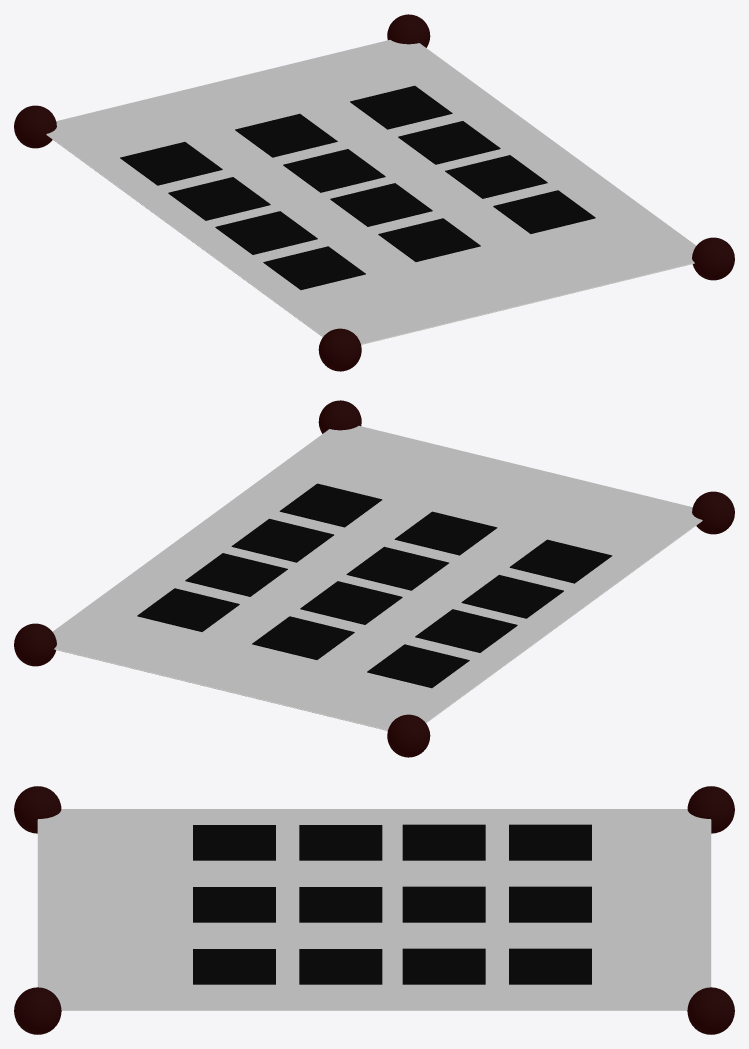
Rendered from Document.fbx.
3 renders of one model, top to bottom at view 1: azimuth 30°, elevation 25°; view 2: azimuth 150°, elevation 25°; view 3: azimuth 270°, elevation 25°, orthographic. The views are drawn at different scales.
Visible parts, largest first — view 1: DrawingSurface, Enhancement, Material, Heart, Harm, Fate, Inconvenience, DayRuiner, FamilyConflict, LegalRepercussions, Death, Knowledge (+6 smaller); view 2: DrawingSurface, Material, Harm, DayRuiner, Knowledge, Heart, Enhancement, Fate, Inconvenience, FamilyConflict, Death, Hexed (+6 smaller); view 3: DrawingSurface, Inconvenience, DayRuiner, FamilyConflict, LegalRepercussions, Hexed, Death, Harm, Enhancement, Fate, Material, Knowledge (+6 smaller).
Part boxes in pixels (x1=…): DrawingSurface: x1=46, y1=40, x2=696, y2=343; Enhancement: x1=330, y1=183, x2=432, y2=226; Material: x1=493, y1=190, x2=595, y2=233; Heart: x1=263, y1=246, x2=365, y2=289; Harm: x1=445, y1=155, x2=547, y2=198; Fate: x1=215, y1=211, x2=317, y2=254; Inconvenience: x1=398, y1=121, x2=500, y2=164; DayRuiner: x1=283, y1=149, x2=385, y2=192; FamilyConflict: x1=168, y1=177, x2=270, y2=220; LegalRepercussions: x1=350, y1=85, x2=452, y2=129; Death: x1=120, y1=142, x2=222, y2=185; Knowledge: x1=378, y1=218, x2=480, y2=261; DrawingSurface: x1=52, y1=426, x2=702, y2=729; Material: x1=279, y1=483, x2=382, y2=527; Harm: x1=231, y1=518, x2=333, y2=562; DayRuiner: x1=300, y1=581, x2=402, y2=624; Knowledge: x1=394, y1=511, x2=497, y2=555; Heart: x1=509, y1=539, x2=612, y2=583; Enhancement: x1=346, y1=546, x2=448, y2=590; Fate: x1=461, y1=575, x2=563, y2=618; Inconvenience: x1=185, y1=553, x2=287, y2=596; FamilyConflict: x1=415, y1=609, x2=517, y2=652; Death: x1=367, y1=644, x2=469, y2=688; Hexed: x1=252, y1=616, x2=354, y2=659; DrawingSurface: x1=38, y1=809, x2=710, y2=1010; Inconvenience: x1=402, y1=948, x2=485, y2=984; DayRuiner: x1=402, y1=886, x2=485, y2=922; FamilyConflict: x1=402, y1=824, x2=485, y2=860; LegalRepercussions: x1=509, y1=948, x2=591, y2=984; Hexed: x1=509, y1=886, x2=591, y2=922; Death: x1=509, y1=824, x2=591, y2=860; Harm: x1=299, y1=949, x2=382, y2=984; Enhancement: x1=299, y1=887, x2=382, y2=922; Fate: x1=299, y1=825, x2=382, y2=860; Material: x1=193, y1=949, x2=275, y2=984; Knowledge: x1=193, y1=887, x2=275, y2=922.
Bounding box in the file's own units: 220 × 20 × 303.
